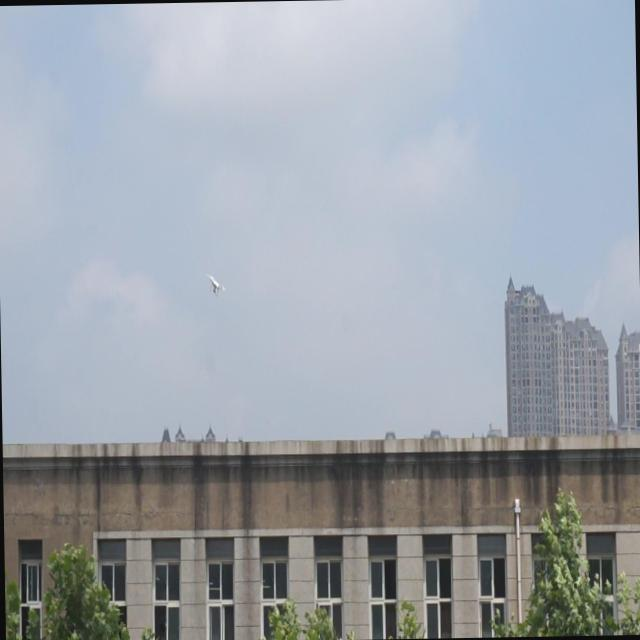drone: (206, 274, 230, 302)
